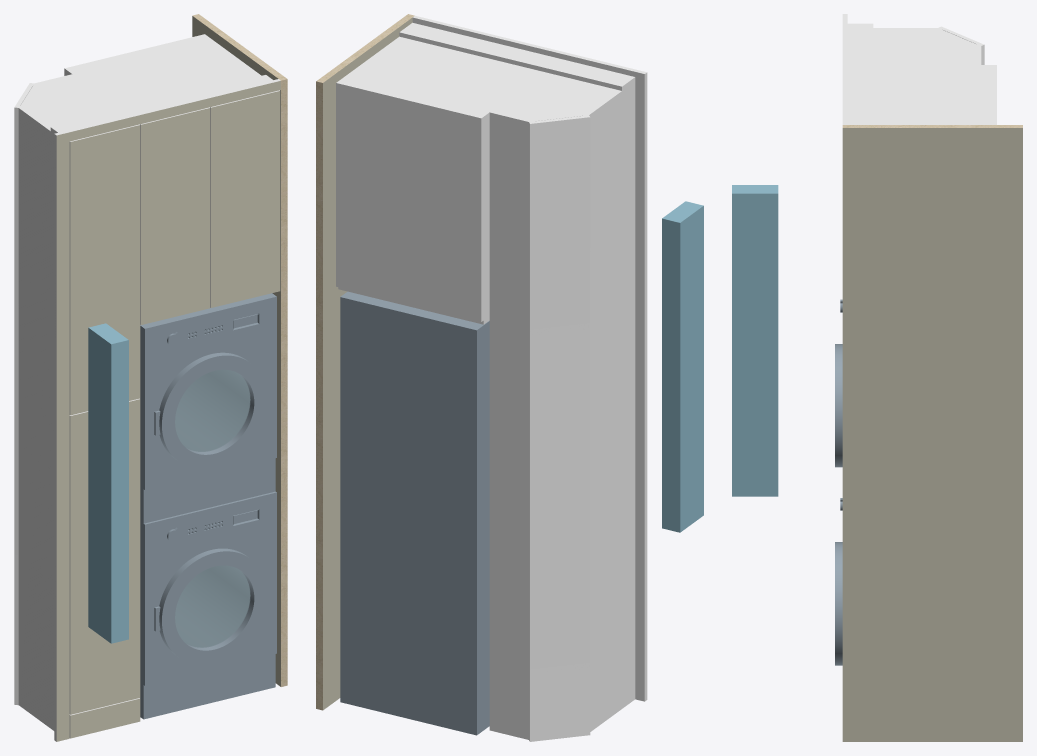
File: Bathroom.glb
The picture shows the model from 3 angles, left to right: view 1: azimuth 30°, elevation 25°; view 2: azimuth 150°, elevation 25°; view 3: azimuth 270°, elevation 25°; orthographic projection. The views are drawn at different scales.
Visible parts, largest first — view 1: 2.001, 2.002, 2.083, 2.075, 2.076, 2.311, 2.099, 2.111, 2.100; view 2: 2.001, 2.002, 2.111, 2.311; view 3: 2.001, 2.311, 2.002.
Part boxes in pixels (<box>): 2.001: <box>18,14,287,741</box>; 2.002: <box>140,293,276,719</box>; 2.083: <box>69,124,140,415</box>; 2.075: <box>140,107,210,324</box>; 2.076: <box>210,90,280,307</box>; 2.311: <box>88,323,128,643</box>; 2.099: <box>69,398,140,714</box>; 2.111: <box>14,83,33,705</box>; 2.100: <box>69,698,140,738</box>; 2.001: <box>316,14,647,739</box>; 2.002: <box>340,291,489,735</box>; 2.111: <box>529,115,590,741</box>; 2.311: <box>662,201,703,532</box>; 2.001: <box>842,14,1022,741</box>; 2.311: <box>732,185,778,496</box>; 2.002: <box>835,344,842,665</box>.
Size of the model in its own units: 1.05 by 2.63 by 1.13.
11 materials, 1 textured.
